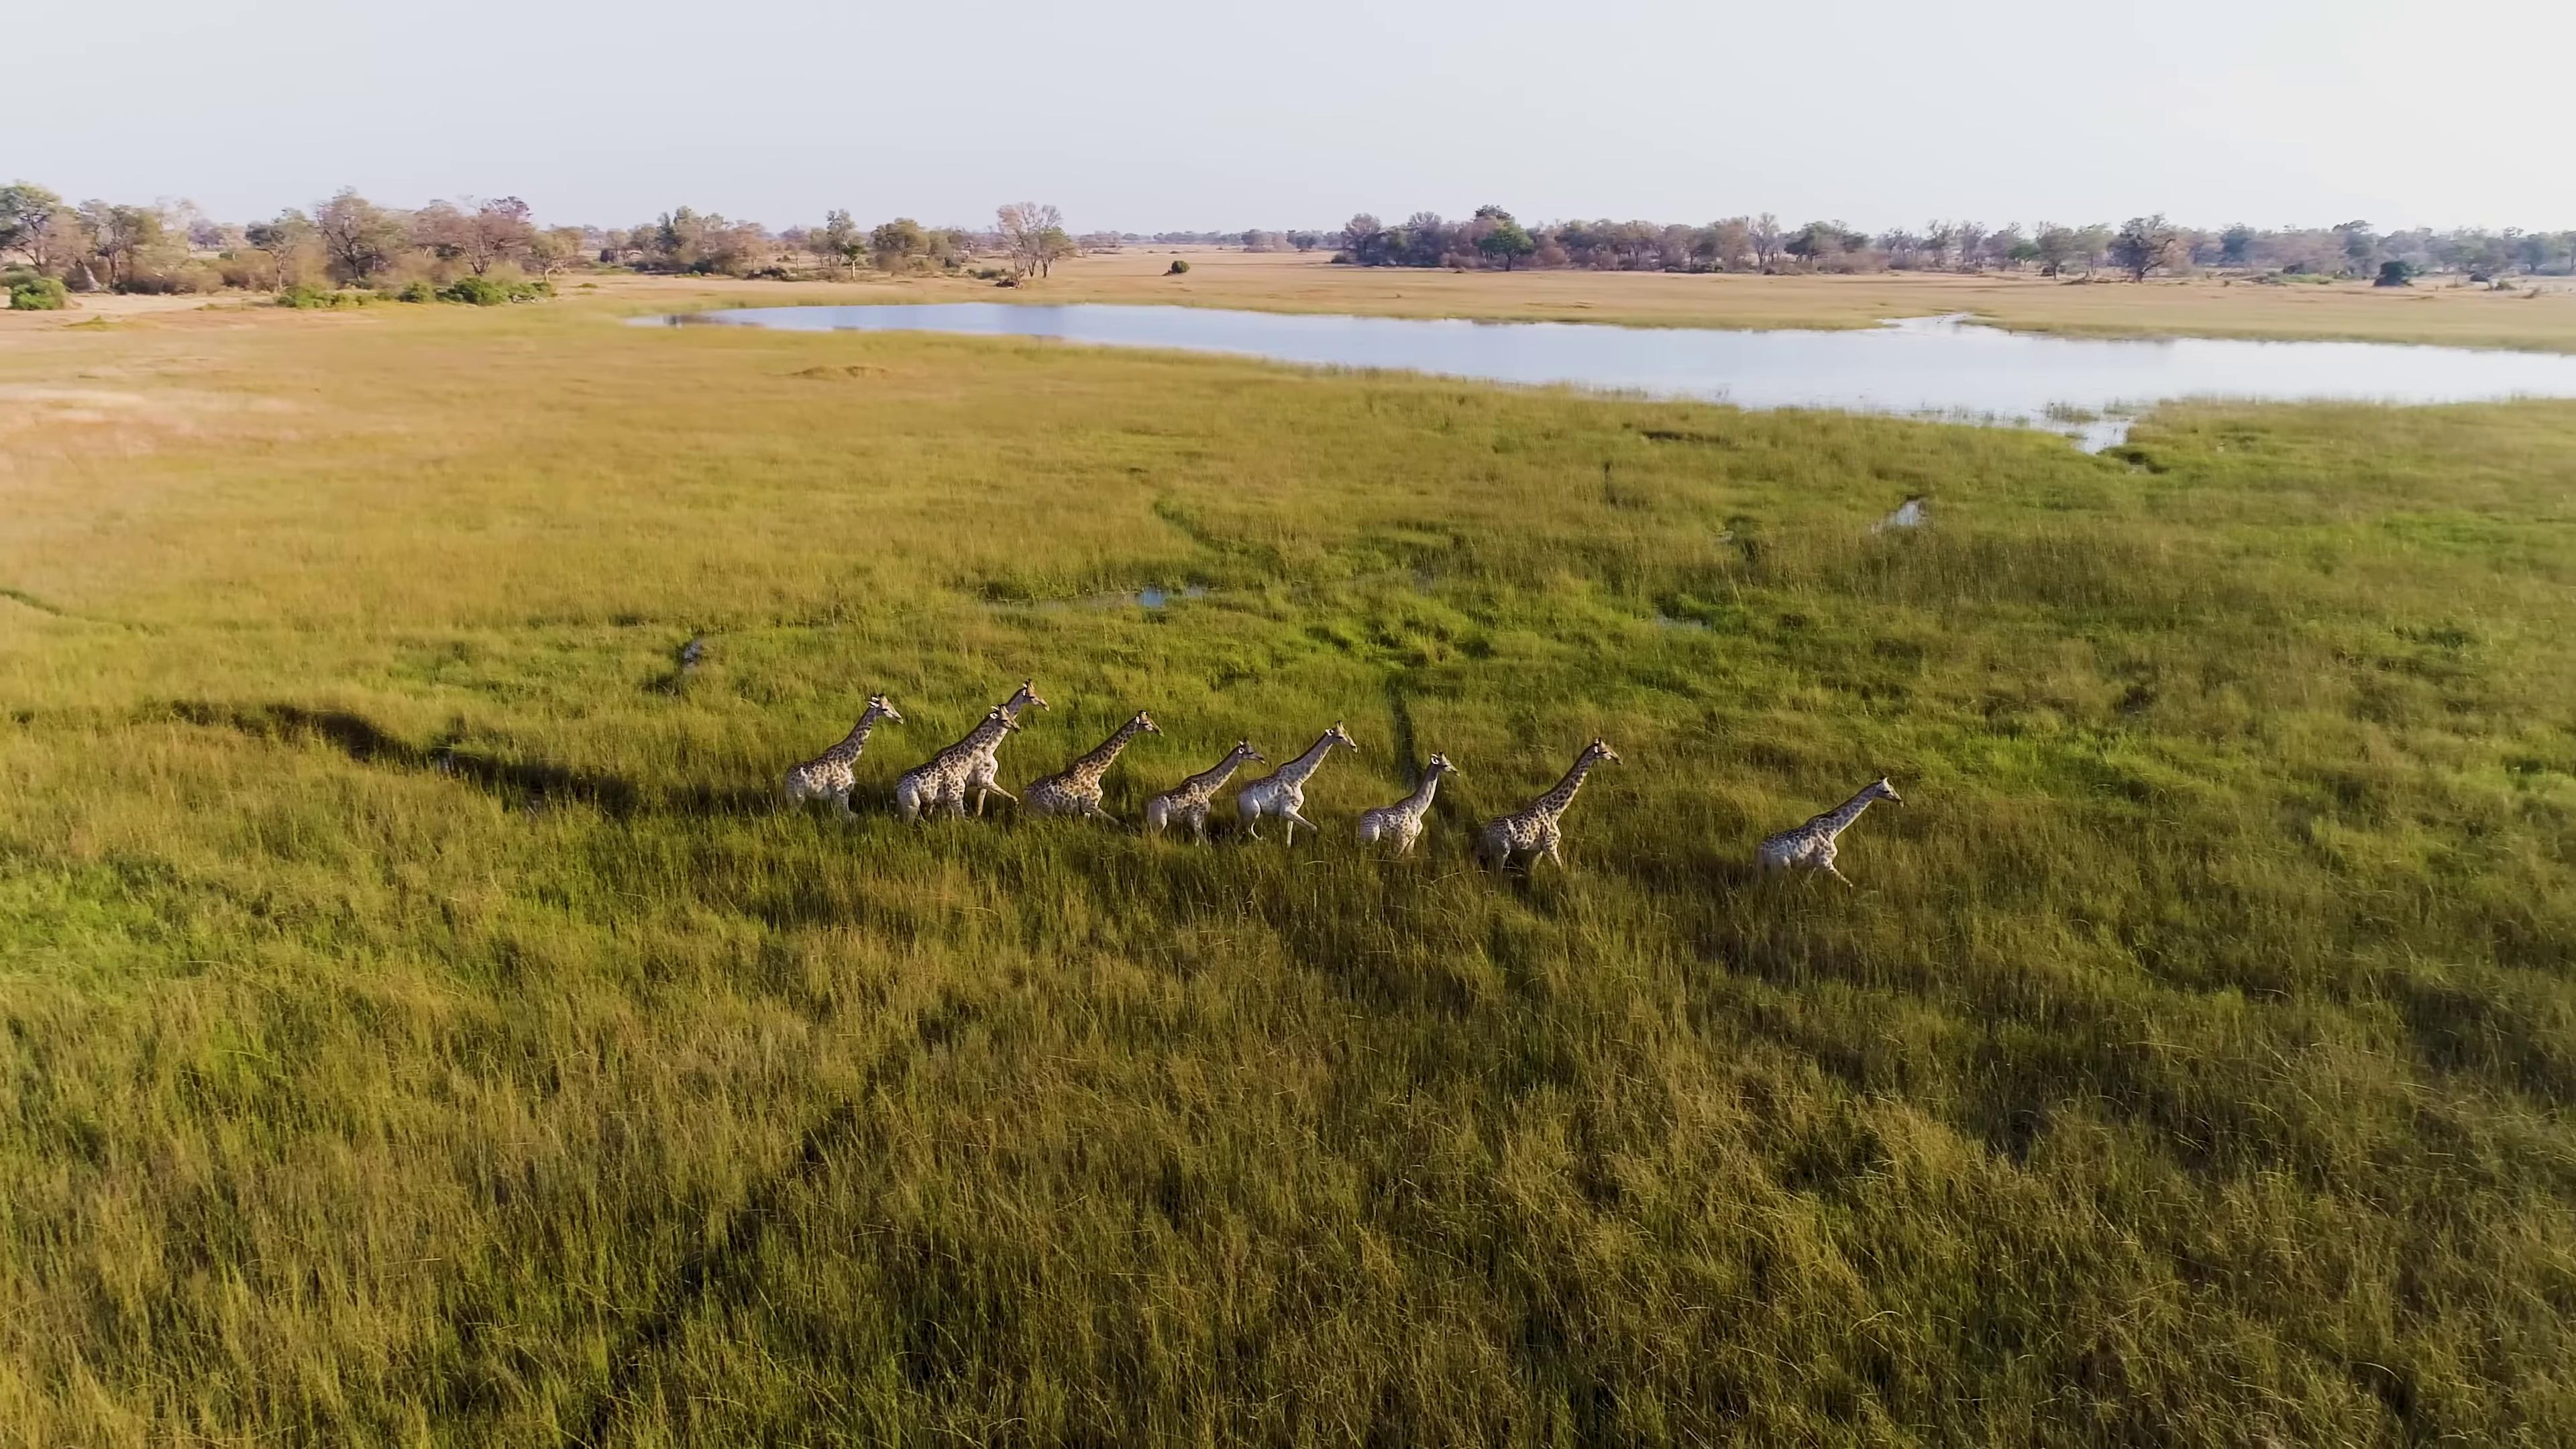giraffe: (1468, 725, 1629, 879), (1746, 764, 1907, 901), (1012, 708, 1169, 835), (892, 697, 1026, 839), (929, 674, 1054, 824), (775, 683, 911, 819), (1235, 713, 1361, 844), (1143, 725, 1269, 847), (1348, 738, 1460, 862)
